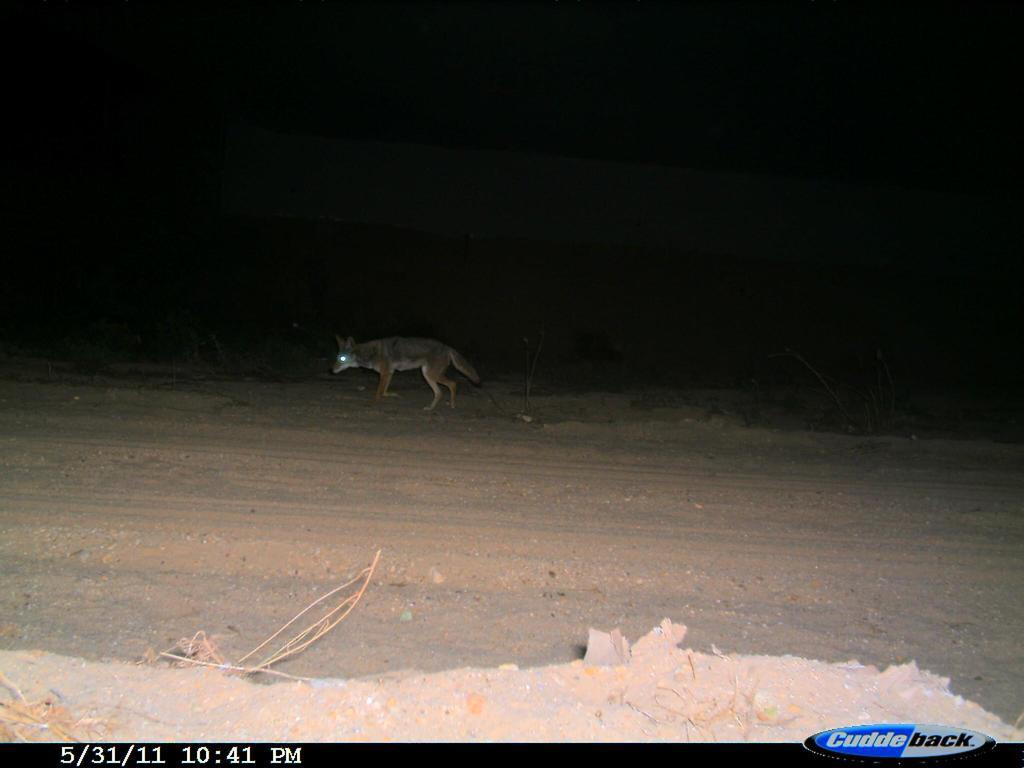coyote: (326, 332, 496, 417)
